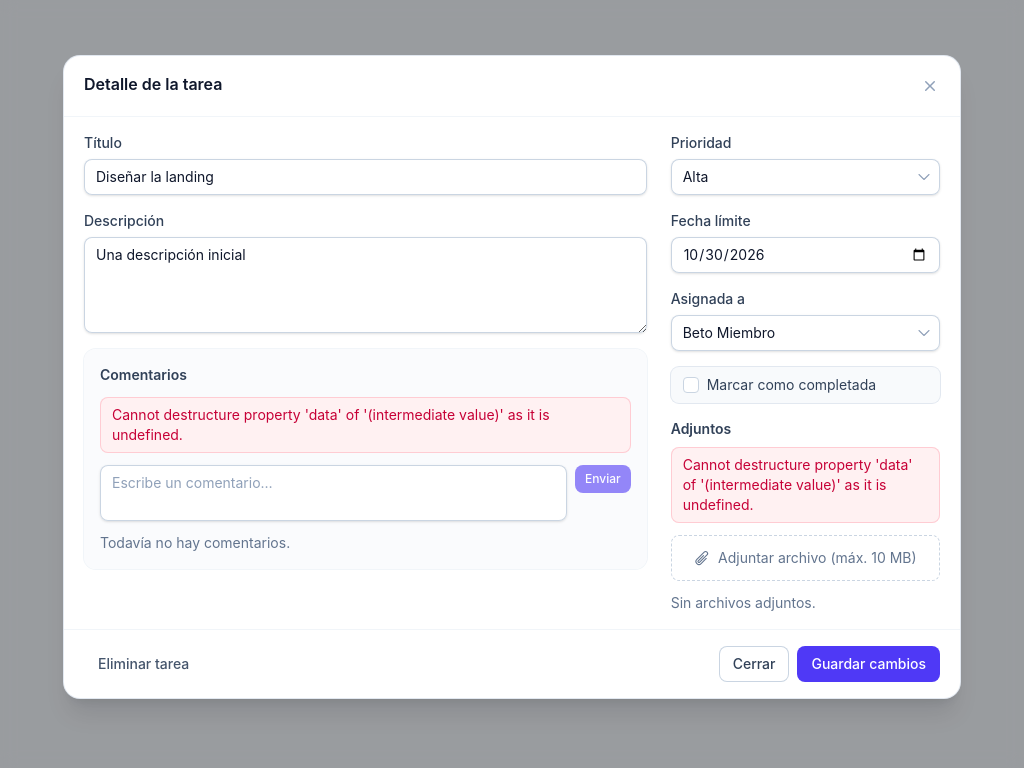
Test: TaskDialog › shows the error if deletion fails
Step 1. Click the button "Eliminar tarea" → coordinates (144, 664), box [84,646,203,682]
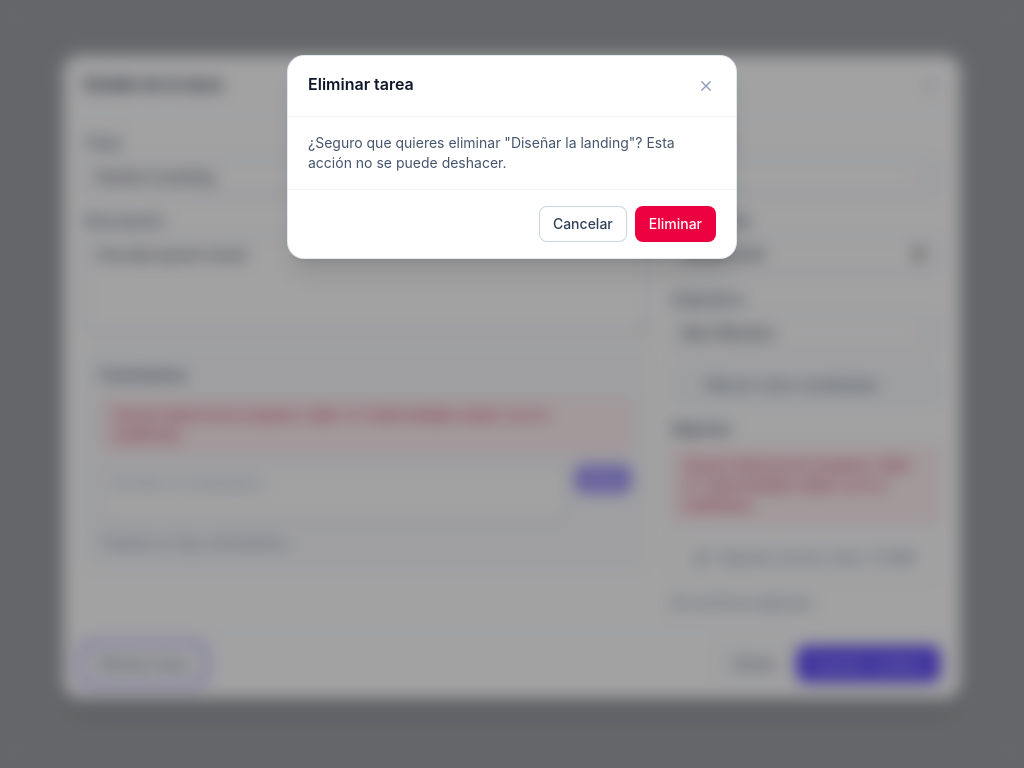
Step 2. Click the button "Eliminar" → coordinates (675, 224), box [635,206,716,242]
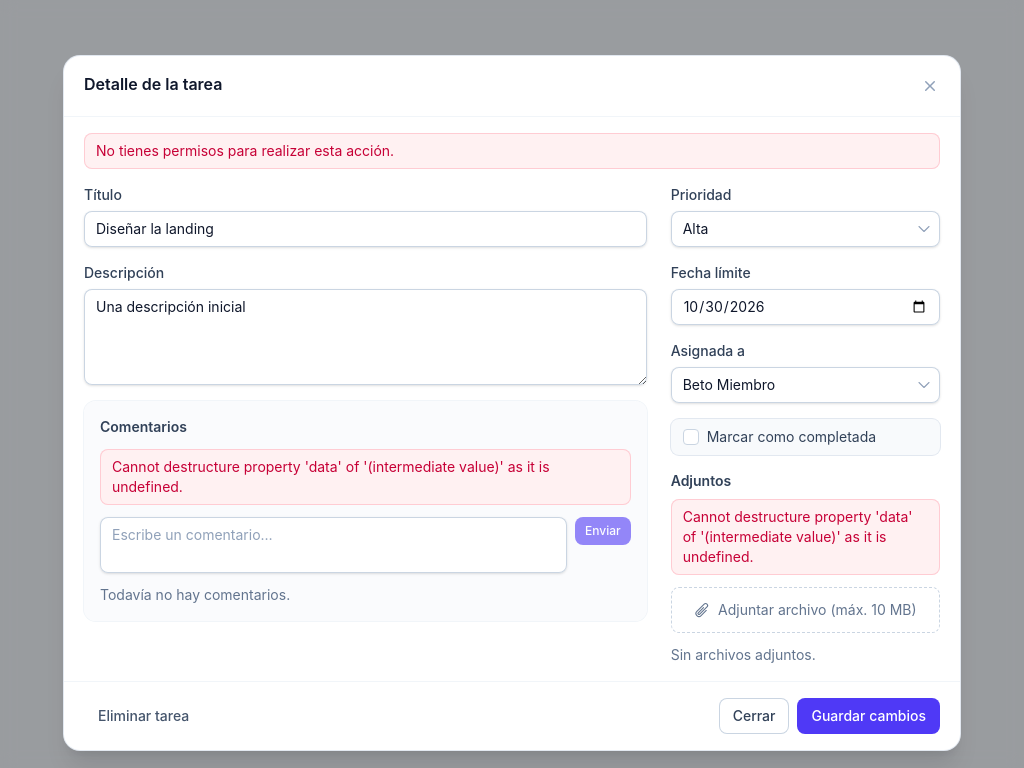
Check: the text "No tienes permisos para realizar esta acción." is shown, box [84,133,940,169]
